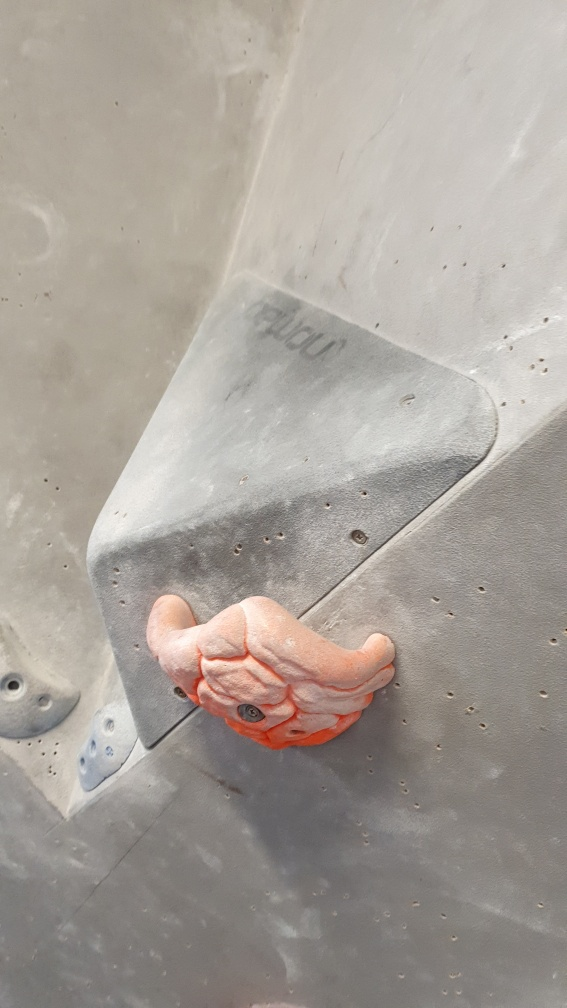Jug: (146, 590, 397, 752)
